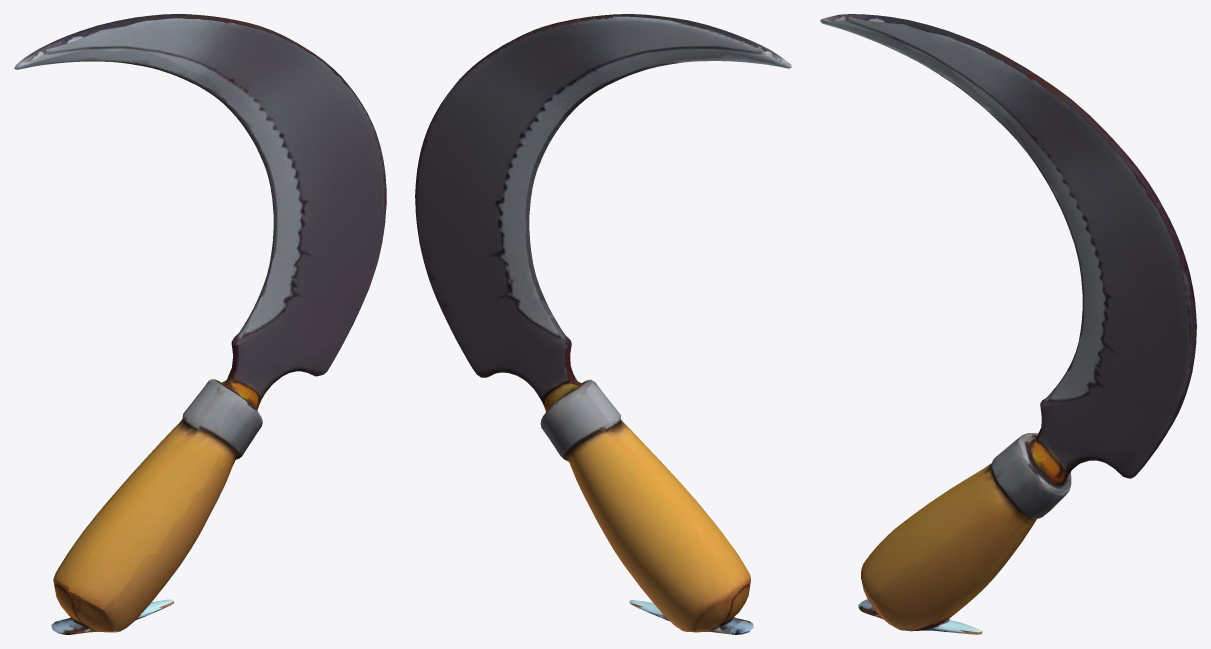
File: sickle.glb
The picture shows the model from 3 angles, left to right: view 1: azimuth 30°, elevation 25°; view 2: azimuth 150°, elevation 25°; view 3: azimuth 330°, elevation 25°; orthographic projection.
Visible parts, largest first — view 1: item_sickle; view 2: item_sickle; view 3: item_sickle.
Part boxes in pixels (x1,y1,x2,y2): item_sickle: (14, 14, 386, 634); item_sickle: (415, 14, 791, 634); item_sickle: (820, 14, 1196, 634).
Size of the model in its own units: 0.6484 by 1 by 0.1338.
Materials: 1 (1 with a texture image).
